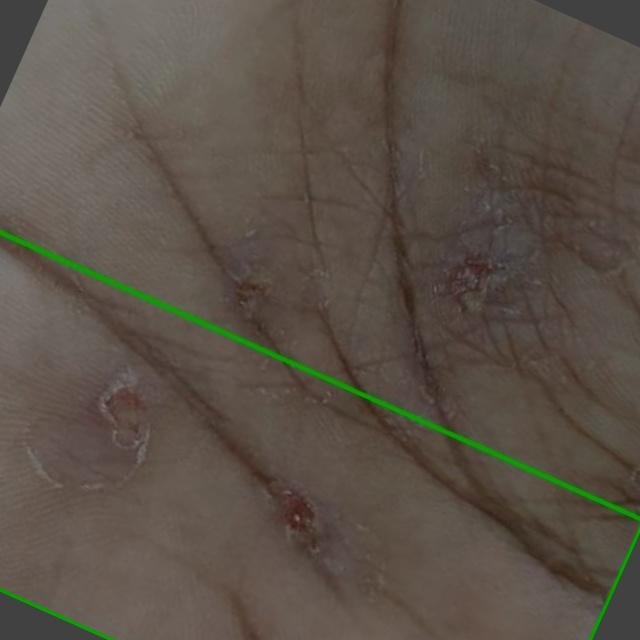Scabies: (0, 232, 639, 639)
